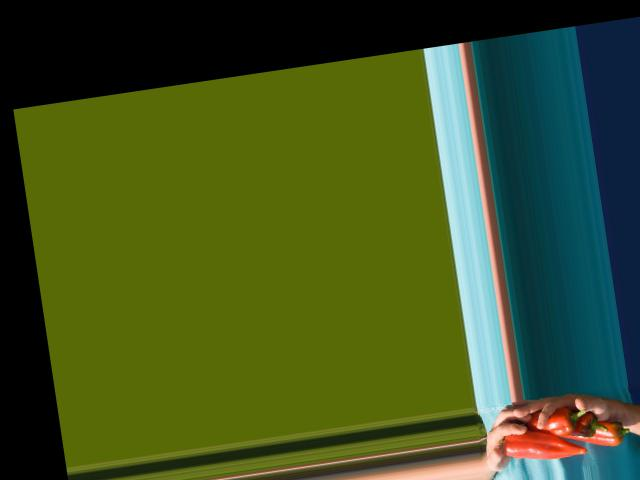bell_pepper: (575, 414, 632, 450)
